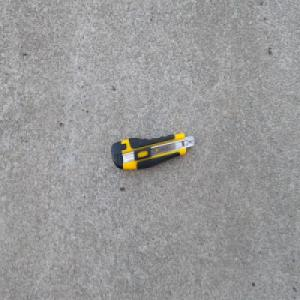Cutter: (111, 131, 194, 171)
